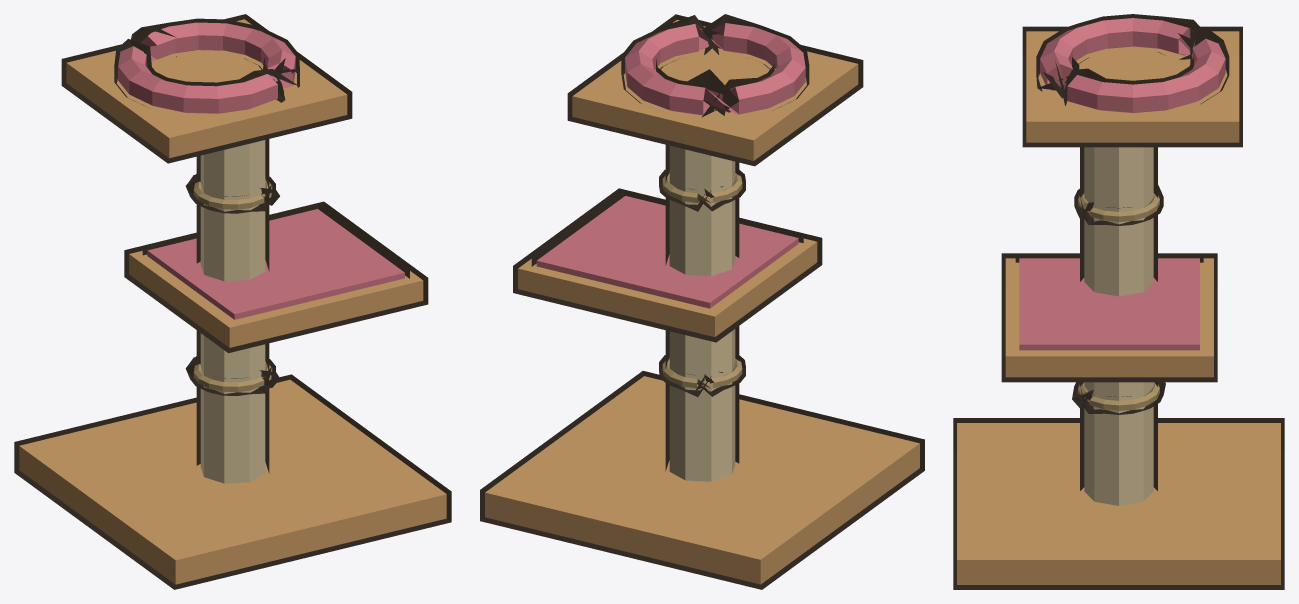
File: cat_tower_01.glb
The picture shows the model from 3 angles, left to right: view 1: azimuth 30°, elevation 25°; view 2: azimuth 150°, elevation 25°; view 3: azimuth 270°, elevation 25°; orthographic projection. The views are drawn at different scales.
Visible parts, largest first — view 1: OBJ_cat_tower_01; view 2: OBJ_cat_tower_01; view 3: OBJ_cat_tower_01.
Boxes of the visible parts, box(x1,y1,x2,y2) form: OBJ_cat_tower_01: box(14, 14, 451, 589); OBJ_cat_tower_01: box(480, 14, 924, 589); OBJ_cat_tower_01: box(953, 14, 1284, 589).
Size of the model in its own units: 0.716 by 1.12 by 0.716.
